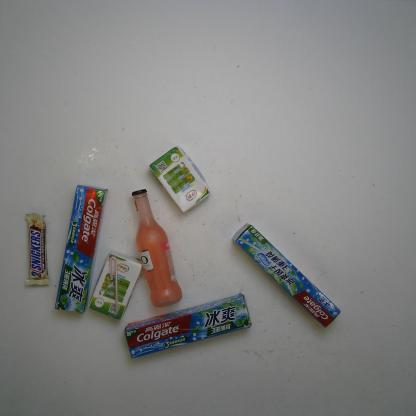Alcohol: (129, 186, 184, 310)
Chocolate: (22, 210, 52, 288)
Milk: (148, 144, 212, 214), (86, 247, 144, 322)
Personal Hygiene: (230, 221, 342, 330), (122, 291, 253, 360), (52, 182, 109, 315)
